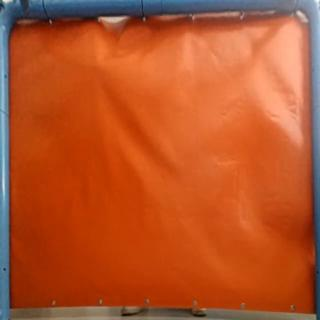Hit-hRxx: (89, 59, 106, 74)
